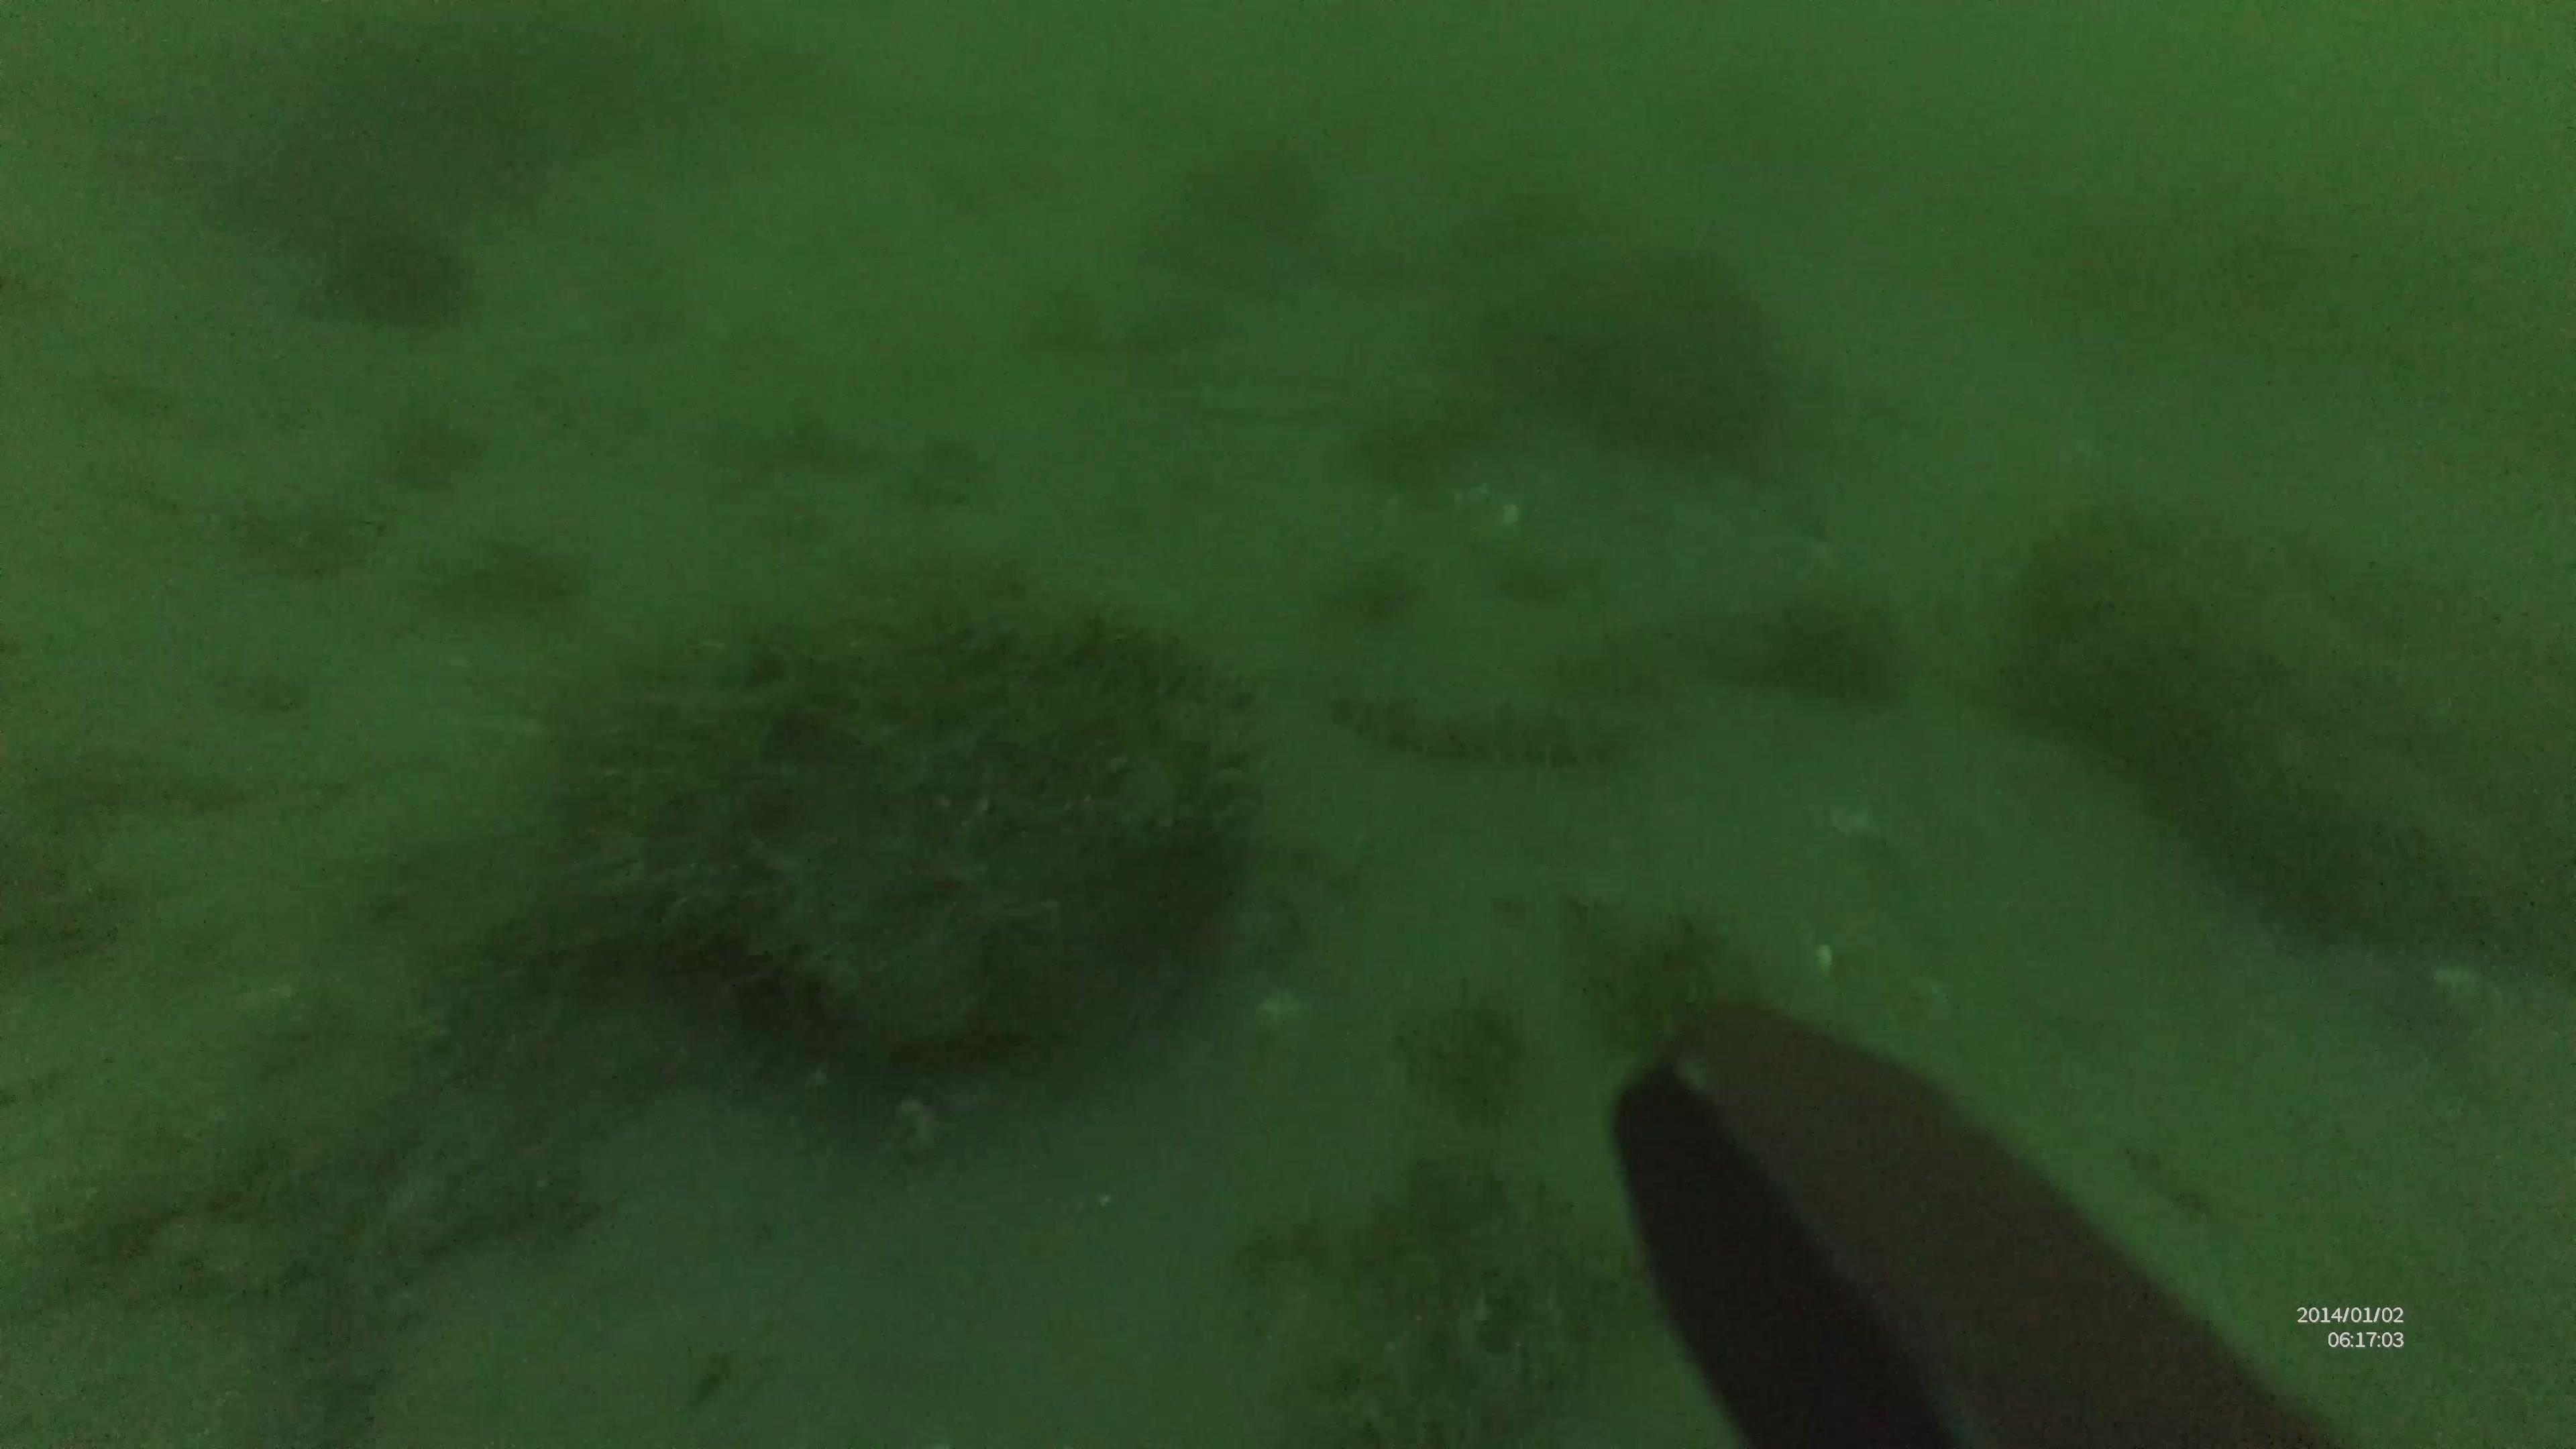holothurian: (1306, 665, 1683, 759), (1537, 602, 1898, 697)
